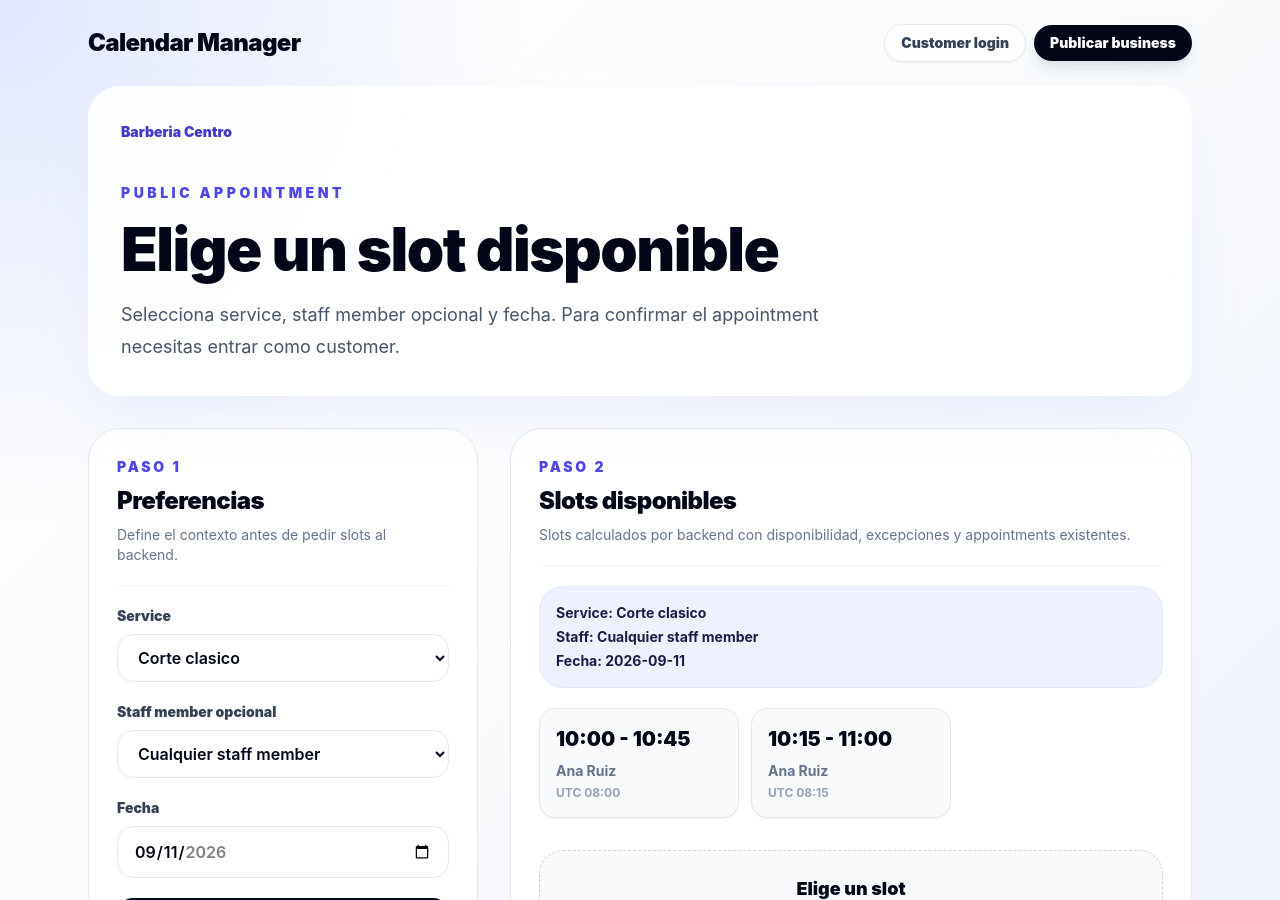
Test: appointment slot flow page › filters slots by selected staff member and stores selected slot locally
Expected: the button "10:00 - 10:45 Ana Ruiz UTC 08:00" is shown, [539, 708, 739, 818]
Select "Ana Ruiz" in the dropdown labelled "Staff member opcional": point(283, 754) [117, 730, 449, 778]
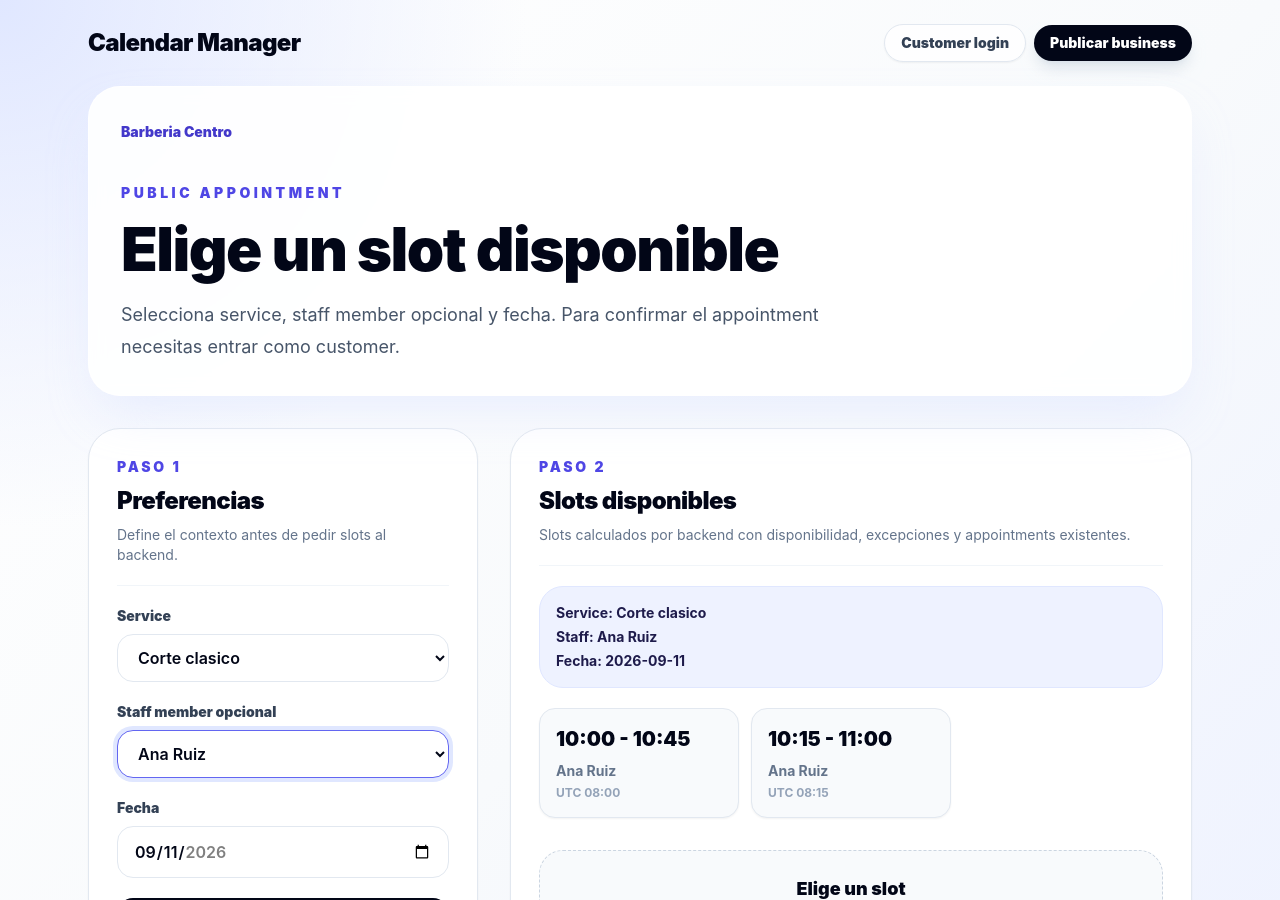
Click the button "10:00 - 10:45 Ana Ruiz UTC 08:00": point(639, 763) [539, 708, 739, 818]
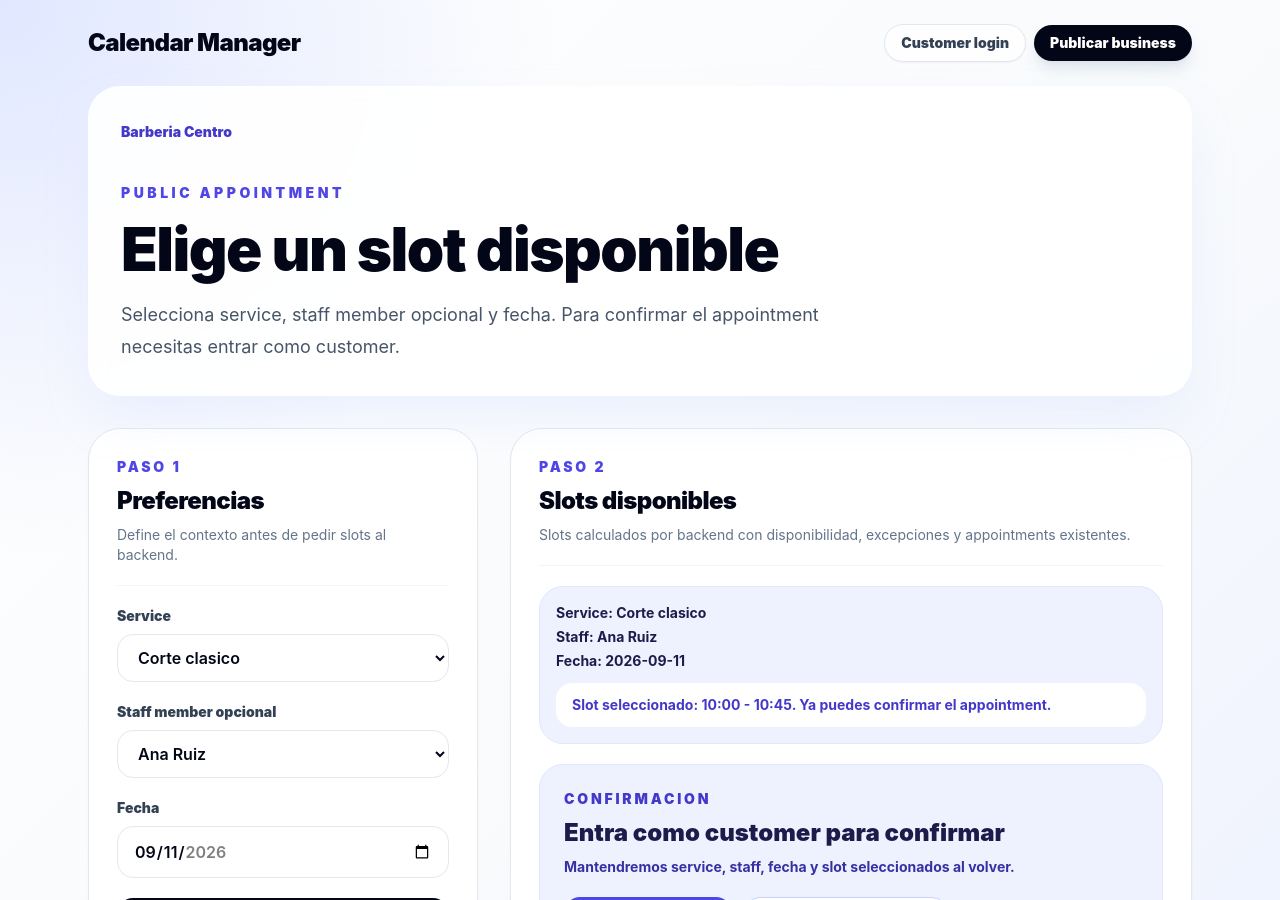
Now the text "Slot seleccionado: 10:00 - 10:45" is shown, box [556, 683, 1146, 727]
Now the heading "Entra como customer para confirmar" is shown, box [564, 818, 1005, 847]
